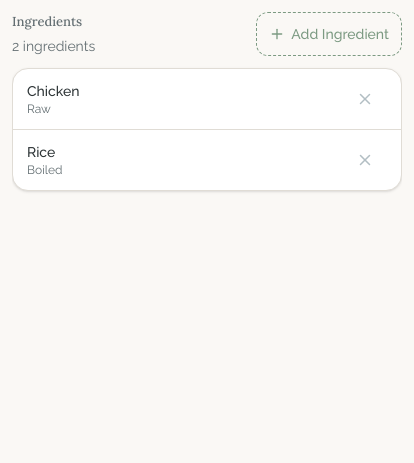
Test: blocks opening add ingredient when the expanded draft is invalid
Click the button "Chicken Raw": x=53, y=91 [27,69,333,129]
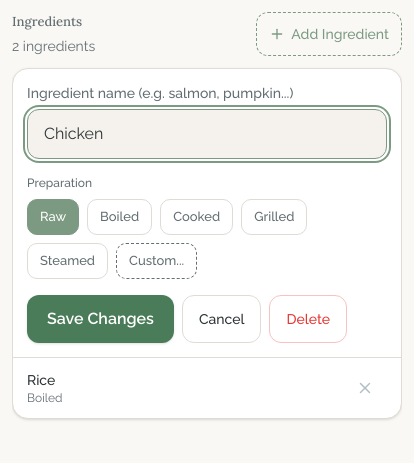
Clear the field labelled "Ingredient name (e.g. salmon, pumpkin...)": x=207, y=134 [27,109,387,159]
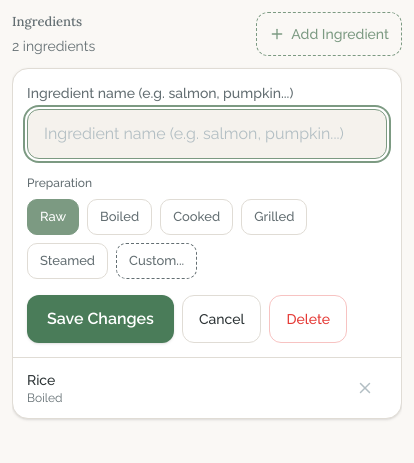
Click the button "Add Ingredient": x=329, y=34 [256,12,402,56]
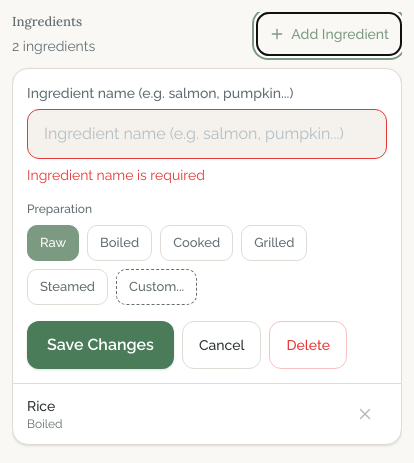
Now the button "Save Changes" is shown, box [27,321,174,369]
Now the text "Ingredient name is required" is shown, box [27,167,205,183]
